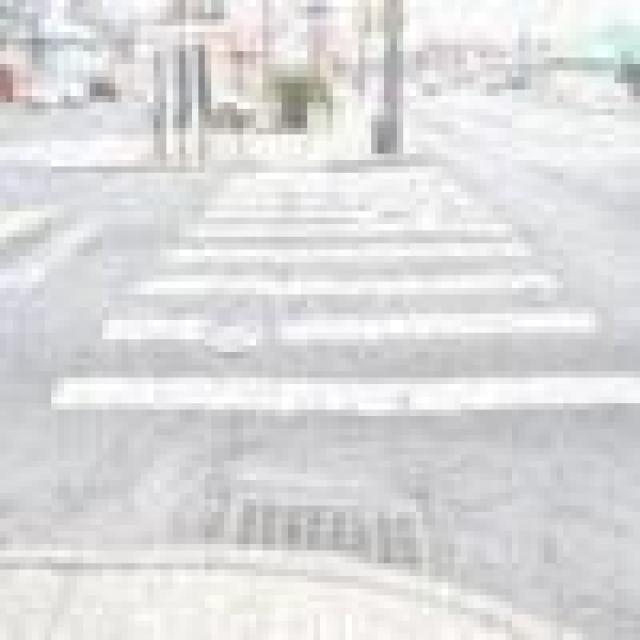crosswalk: (45, 160, 640, 410)
